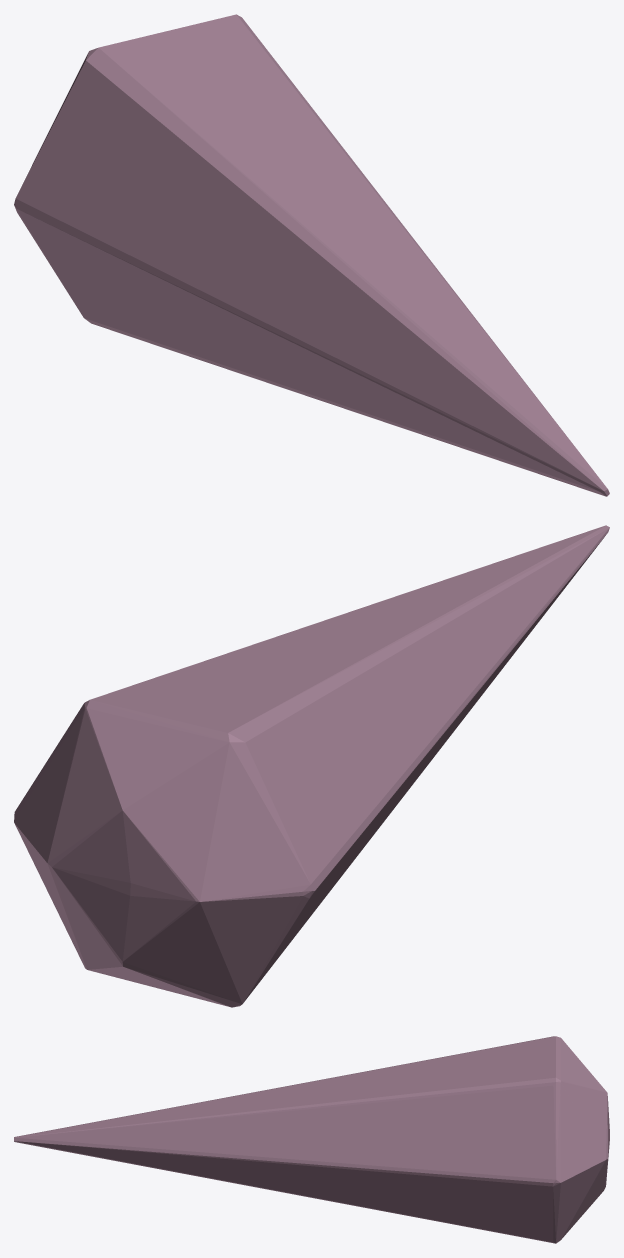
The model's file is IV_pole_a04.glb.
The picture shows the model from 3 angles, top to bottom: view 1: azimuth 30°, elevation 25°; view 2: azimuth 150°, elevation 25°; view 3: azimuth 270°, elevation 25°; orthographic projection. The views are drawn at different scales.
Parts seen in each view (by area): view 1: geometry_0; view 2: geometry_0; view 3: geometry_0.
Boxes of the visible parts, <box> form: geometry_0: <box>14,14,609,496</box>; geometry_0: <box>14,525,609,1007</box>; geometry_0: <box>14,1036,609,1243</box>.
Size of the model in its own units: 0.1697 by 0.1483 by 0.48.
